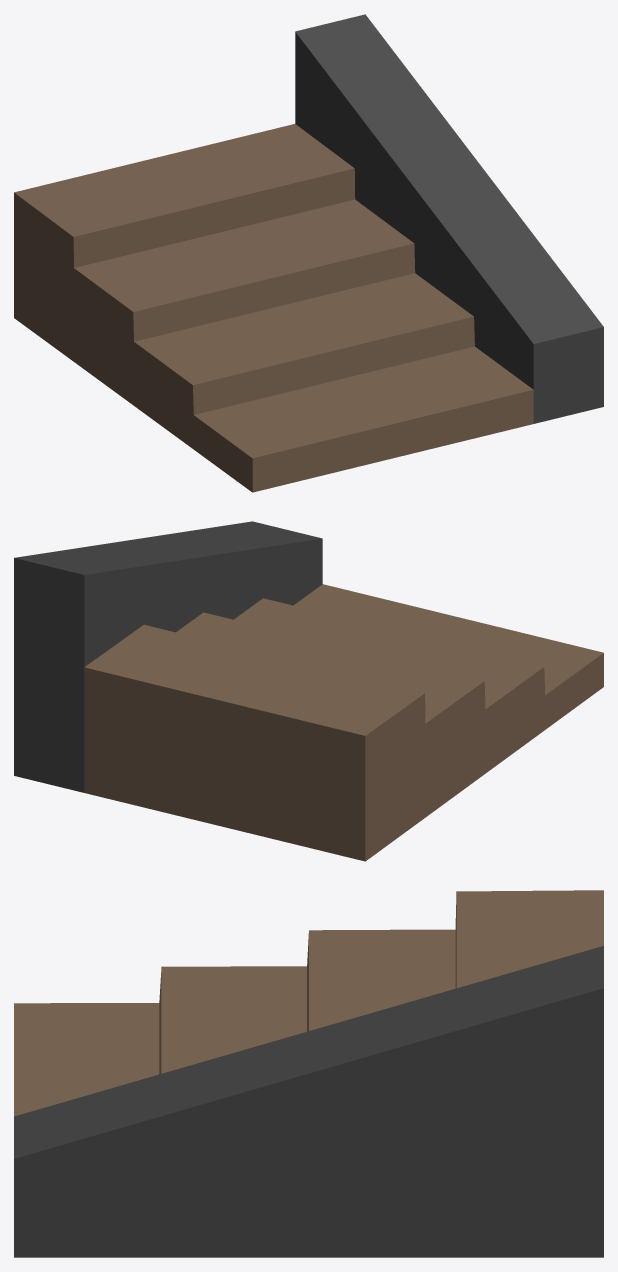
File: Stair Hubba.fbx
3 renders of one model, top to bottom at view 1: azimuth 30°, elevation 25°; view 2: azimuth 150°, elevation 25°; view 3: azimuth 270°, elevation 25°, orthographic. The views are drawn at different scales.
Visible parts, largest first — view 1: Stair_with_Hubba; view 2: Stair_with_Hubba; view 3: Stair_with_Hubba.
Boxes of the visible parts, <box> form: Stair_with_Hubba: <box>14,14,603,492</box>; Stair_with_Hubba: <box>14,521,603,861</box>; Stair_with_Hubba: <box>14,890,603,1257</box>.
Size of the model in its own units: 1.93 by 1.14 by 2.27.
